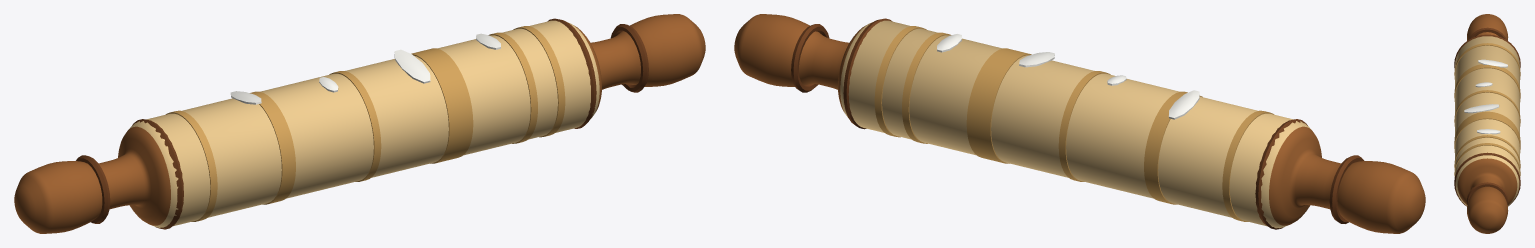
Rendered from rolling_pin.glb.
3 views of the same model, side by side, from view 1: azimuth 30°, elevation 25°; view 2: azimuth 150°, elevation 25°; view 3: azimuth 270°, elevation 25° (orthographic). The views are drawn at different scales.
Parts seen in each view (by area): view 1: RollingPin; view 2: RollingPin; view 3: RollingPin.
Part boxes in pixels (x1=…): RollingPin: x1=14, y1=14, x2=705, y2=233; RollingPin: x1=734, y1=14, x2=1425, y2=233; RollingPin: x1=1454, y1=14, x2=1520, y2=233.
Size of the model in its own units: 10 by 1.49 by 1.44.
